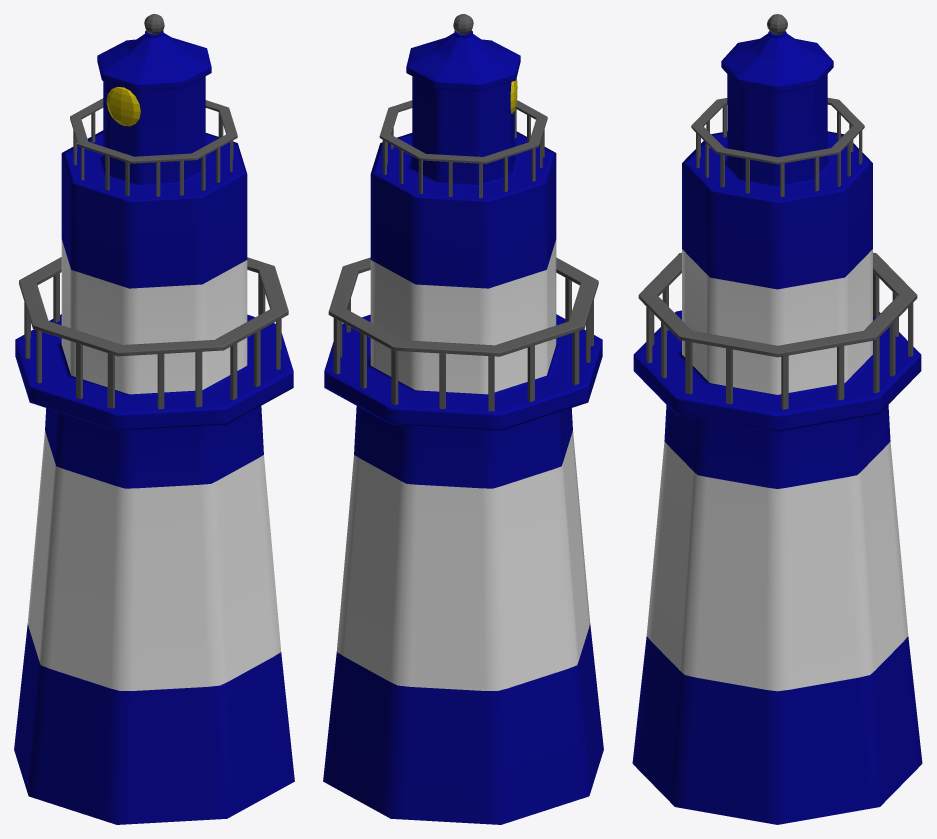
File: LIGHT HOUSE.fbx
The picture shows the model from 3 angles, left to right: view 1: azimuth 30°, elevation 25°; view 2: azimuth 150°, elevation 25°; view 3: azimuth 270°, elevation 25°; orthographic projection.
Parts seen in each view (by area): view 1: LIGHTHOUSE; view 2: LIGHTHOUSE; view 3: LIGHTHOUSE.
Part boxes in pixels (box(x1,y1,x2,y2)): LIGHTHOUSE: box(14, 14, 294, 824); LIGHTHOUSE: box(323, 14, 603, 824); LIGHTHOUSE: box(632, 14, 922, 824).
Size of the model in its own units: 368 by 1048 by 368.
